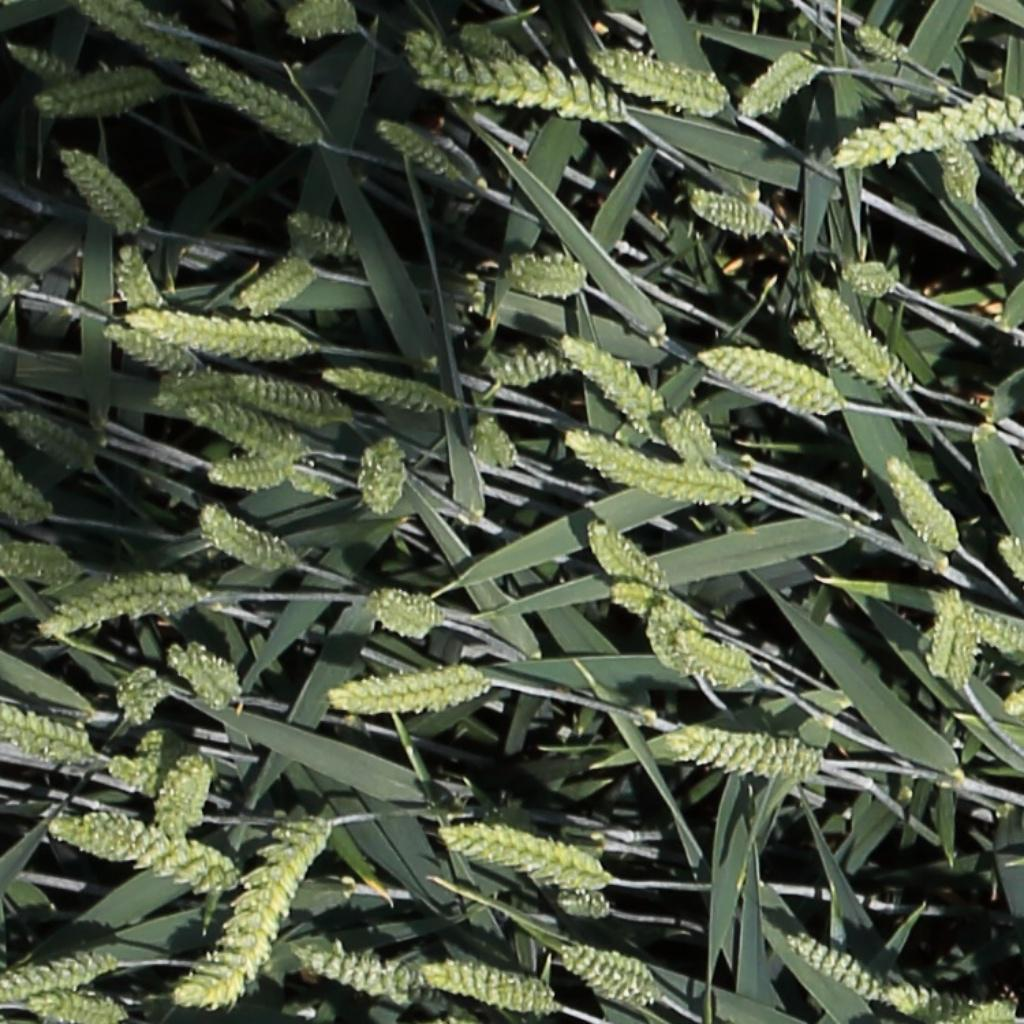0-0: (174, 809, 336, 1013), (398, 31, 631, 126), (39, 812, 253, 894), (826, 90, 1024, 173), (179, 50, 330, 151), (34, 560, 219, 637), (433, 821, 618, 894), (122, 305, 318, 362), (652, 722, 828, 785), (570, 439, 741, 503), (802, 280, 900, 391), (693, 345, 845, 415), (791, 316, 923, 391), (594, 50, 735, 119), (71, 0, 207, 69), (327, 662, 494, 716), (557, 334, 660, 421), (420, 959, 558, 1021), (1, 399, 108, 476), (196, 502, 306, 576), (291, 947, 431, 1005), (57, 143, 143, 233), (785, 932, 888, 1006), (0, 694, 99, 770), (883, 453, 959, 551), (557, 944, 669, 1009), (26, 64, 167, 115), (234, 371, 355, 427), (0, 945, 124, 998), (735, 48, 820, 123), (104, 322, 214, 379), (187, 401, 304, 454), (499, 243, 598, 305), (166, 638, 248, 712), (151, 753, 215, 842), (235, 250, 316, 320), (588, 520, 663, 591), (322, 367, 445, 409), (0, 446, 62, 529), (356, 427, 413, 517), (374, 116, 457, 177), (151, 369, 261, 415), (675, 628, 759, 688), (645, 603, 708, 679), (915, 583, 964, 678), (0, 537, 92, 587), (950, 597, 1023, 657), (208, 444, 303, 490), (882, 981, 982, 1024), (105, 753, 178, 809), (364, 581, 447, 629), (686, 187, 771, 232), (275, 0, 368, 41), (113, 237, 161, 316), (280, 210, 360, 256), (485, 348, 571, 390), (458, 16, 527, 68), (110, 662, 166, 725), (944, 604, 984, 692), (935, 133, 981, 205), (670, 401, 720, 466), (653, 409, 707, 469), (28, 993, 130, 1023), (834, 255, 904, 297), (6, 42, 76, 83), (610, 580, 682, 618), (471, 413, 516, 473), (986, 140, 1024, 210), (365, 605, 435, 638), (139, 725, 196, 760), (854, 24, 907, 61), (959, 992, 1021, 1023), (998, 537, 1024, 607), (286, 469, 339, 501), (552, 894, 611, 918)
